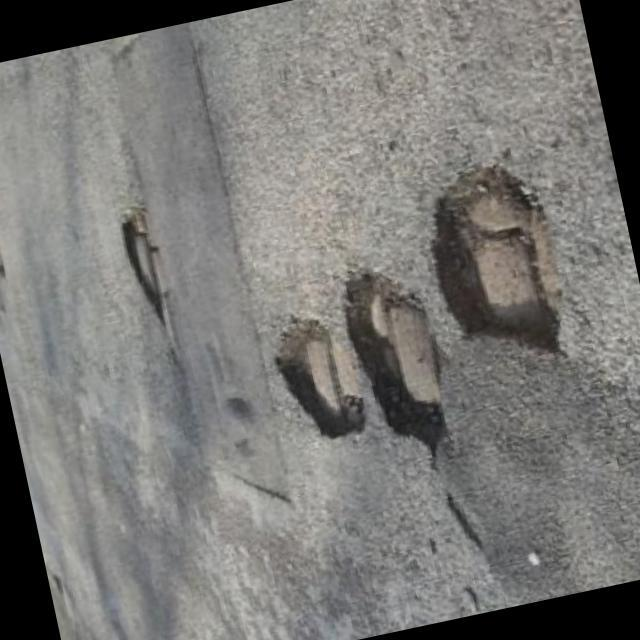pothole: (419, 158, 586, 368), (319, 240, 463, 474), (260, 304, 358, 448), (112, 196, 184, 322), (0, 169, 11, 279)
